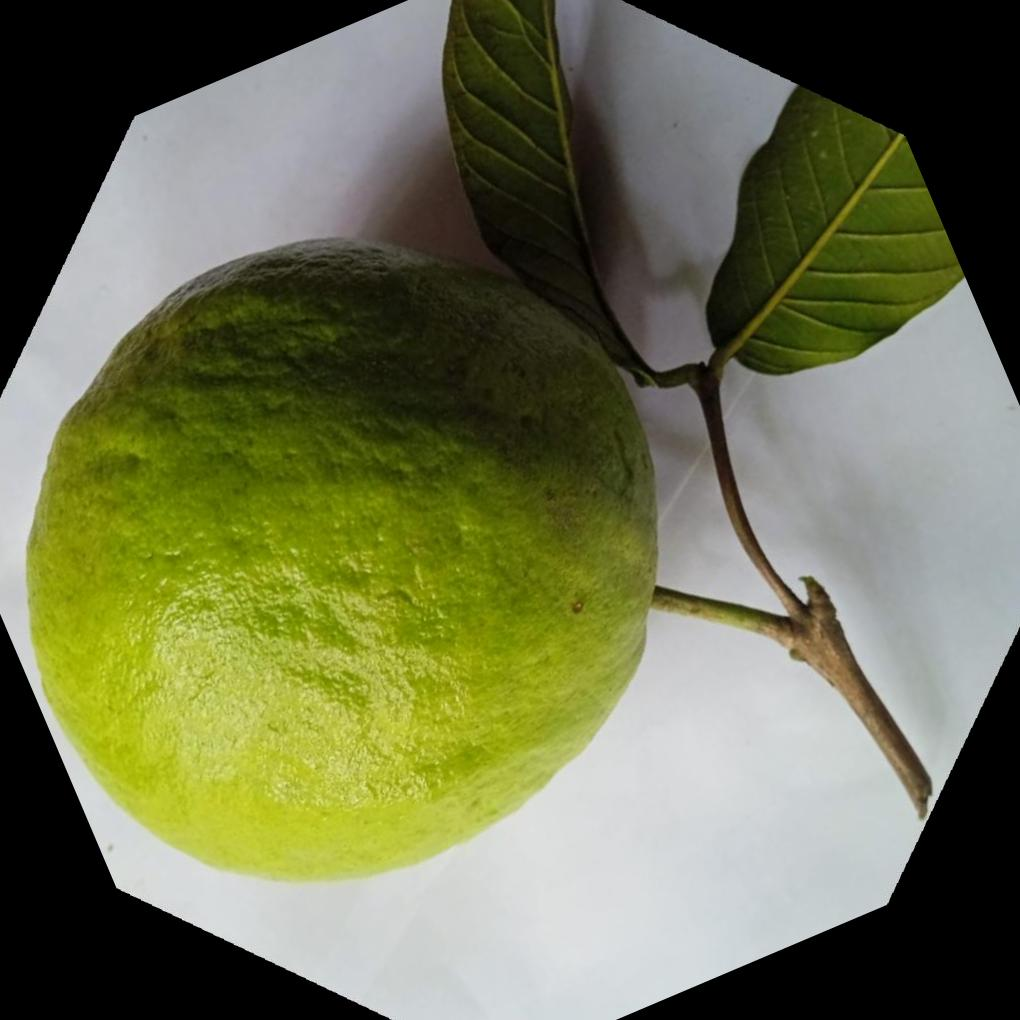FreshGuava: (23, 237, 662, 889)
